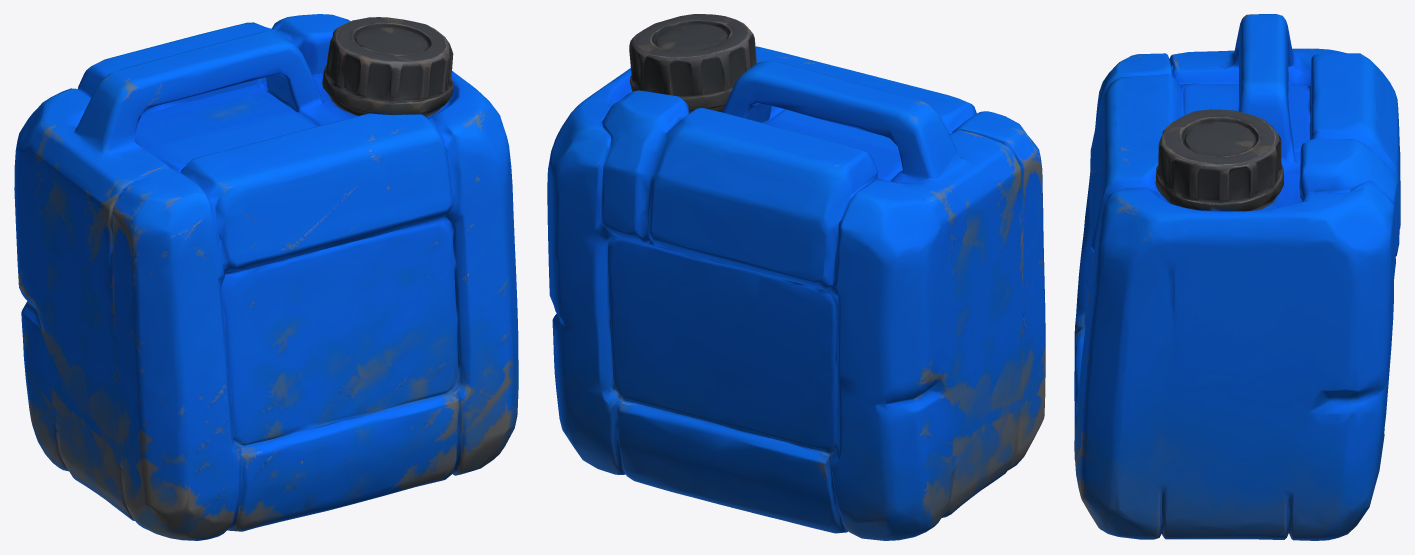
The model's file is PlasticBarrel.fbx.
3 renders of one model, left to right at view 1: azimuth 30°, elevation 25°; view 2: azimuth 150°, elevation 25°; view 3: azimuth 270°, elevation 25°, orthographic. The views are drawn at different scales.
Visible parts, largest first — view 1: tripo_node_8a635fee; view 2: tripo_node_8a635fee; view 3: tripo_node_8a635fee.
Boxes of the visible parts, box(x1,y1,x2,y2) form: tripo_node_8a635fee: box(14, 14, 518, 540); tripo_node_8a635fee: box(547, 14, 1045, 540); tripo_node_8a635fee: box(1074, 14, 1400, 540).
Size of the model in its own units: 0.9783 by 1 by 0.7446.
